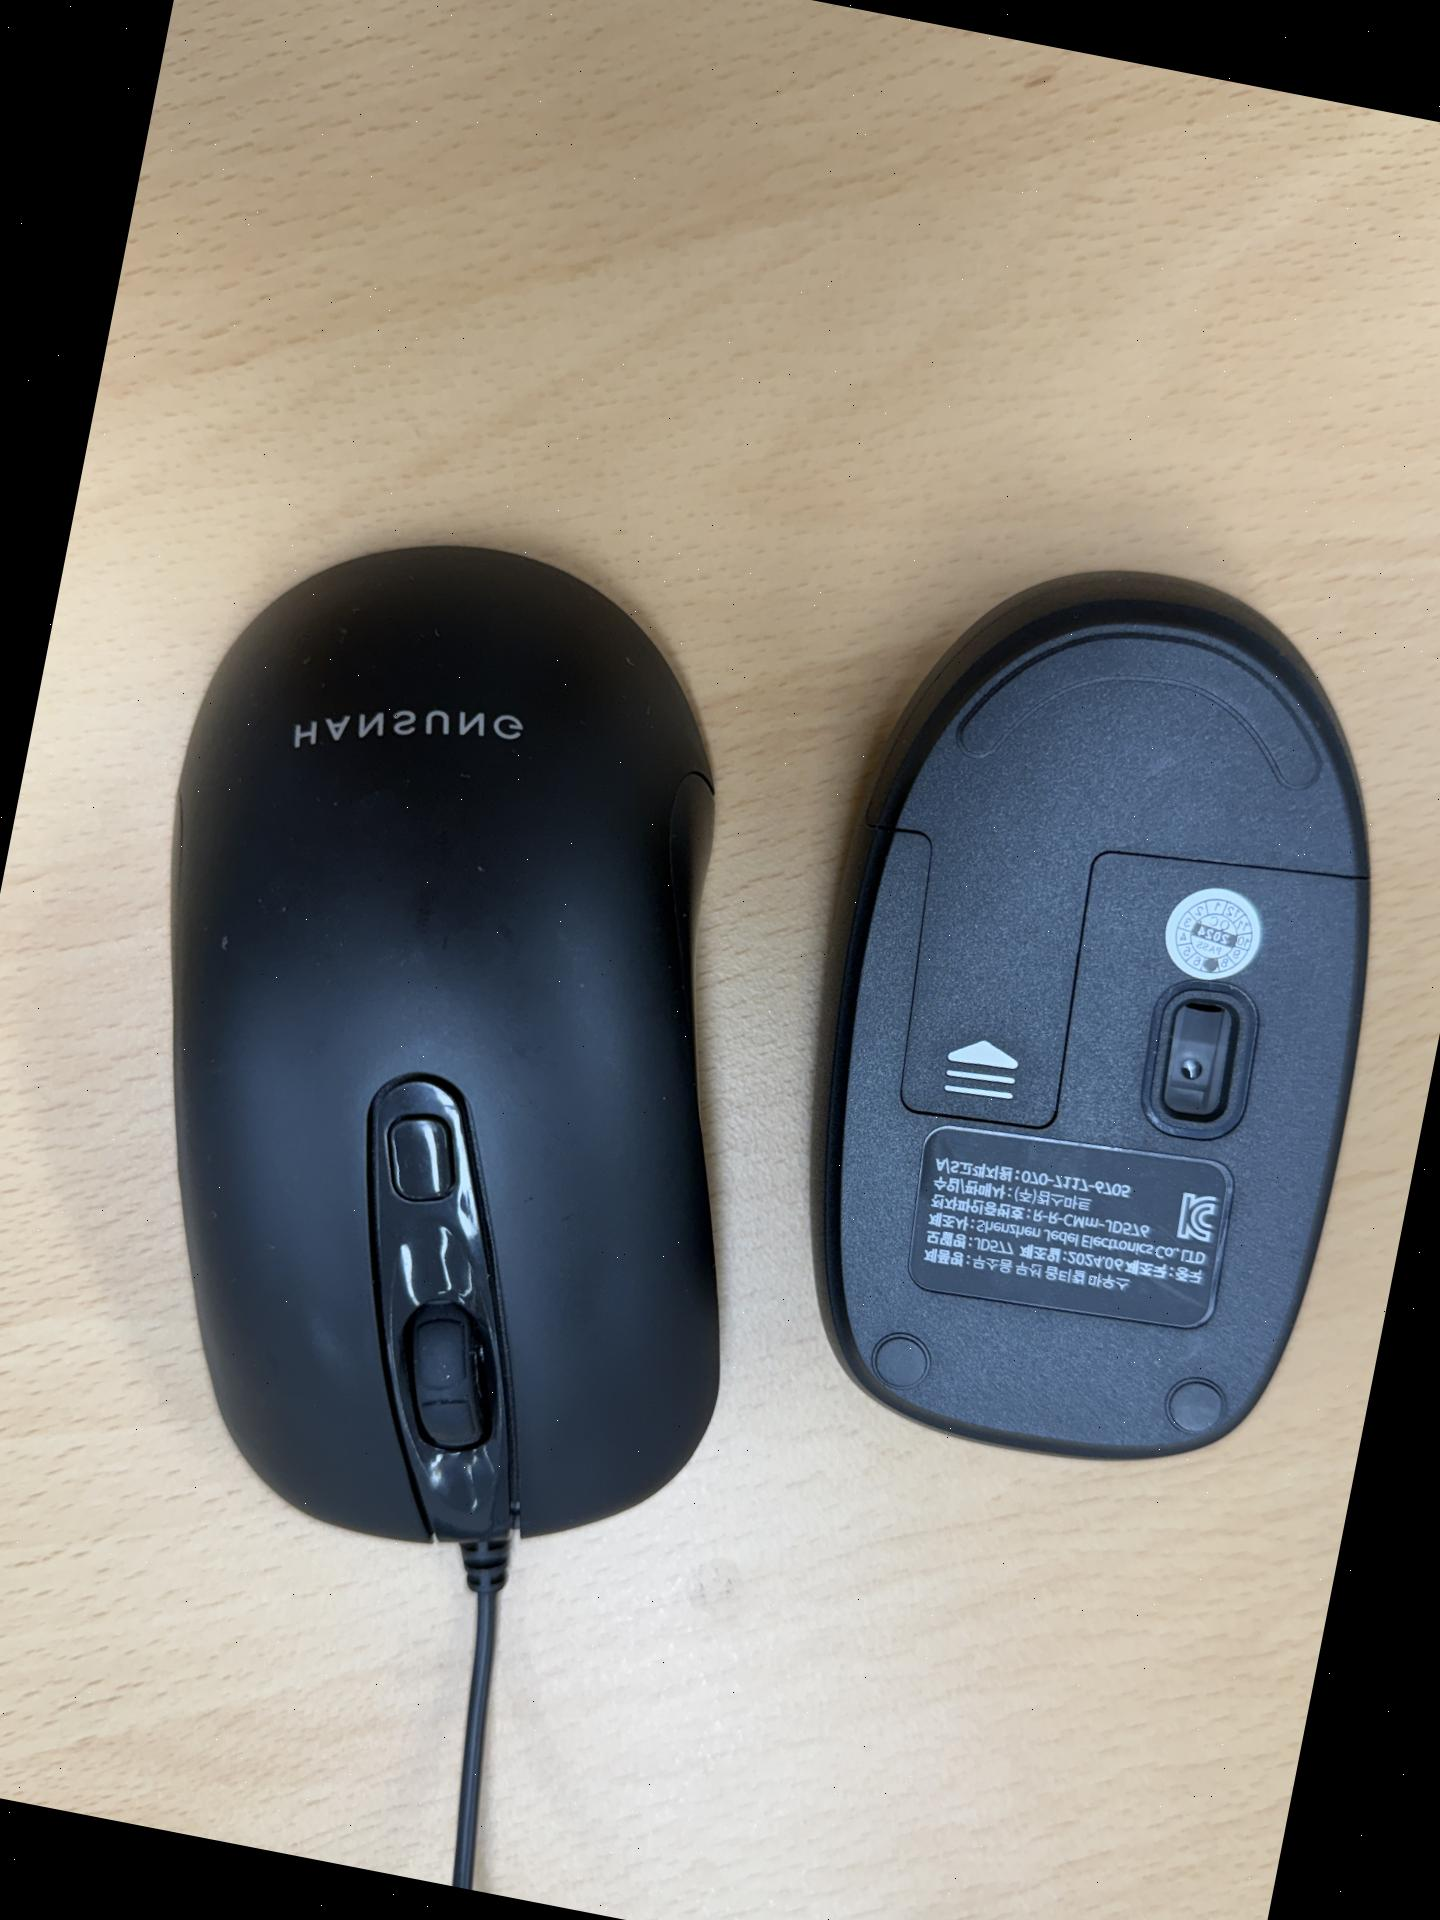back: (747, 516, 1438, 1509)
front: (38, 493, 871, 1603)
